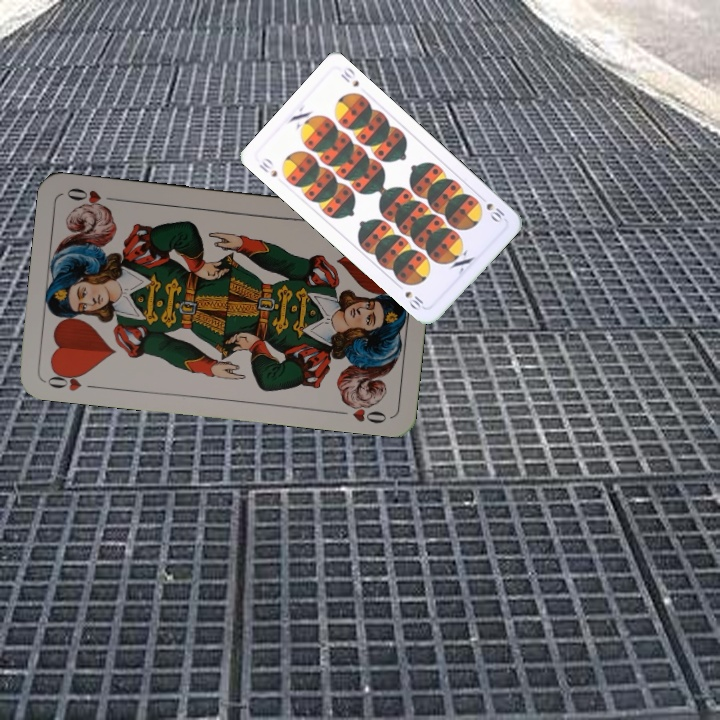HO: (42, 365, 101, 394)
S10: (482, 199, 508, 225), (255, 154, 280, 180)
